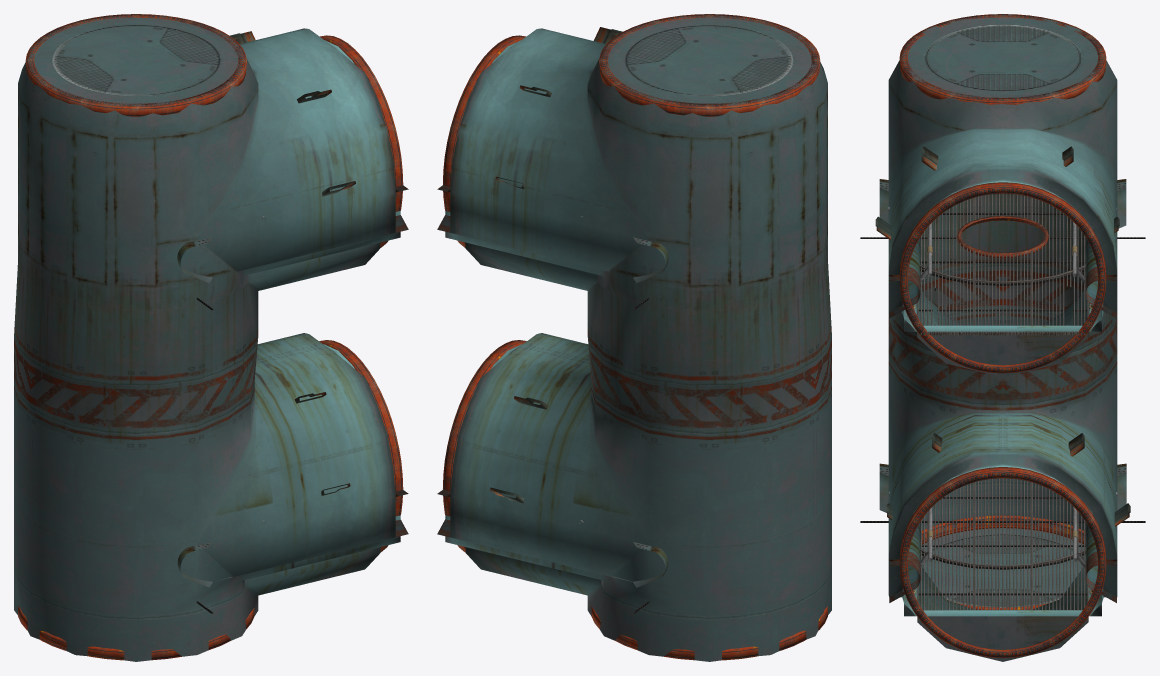
Rendered from tau_tunnel_ladder_short_uturn_infirmary.dae.
3 renders of one model, left to right at view 1: azimuth 30°, elevation 25°; view 2: azimuth 150°, elevation 25°; view 3: azimuth 270°, elevation 25°, orthographic. The views are drawn at different scales.
Visible parts, largest first — view 1: polySurface679, polySurface675, polySurface677; view 2: polySurface679, polySurface675, polySurface677; view 3: polySurface679, polySurface674, polySurface675, polySurface677, polySurface678.
Part boxes in pixels (<box>): polySurface679: <box>14,15,408,661</box>; polySurface675: <box>18,14,403,660</box>; polySurface677: <box>230,31,355,495</box>; polySurface679: <box>437,15,831,661</box>; polySurface675: <box>443,14,827,660</box>; polySurface677: <box>490,27,622,503</box>; polySurface679: <box>879,14,1126,661</box>; polySurface674: <box>860,193,1145,610</box>; polySurface675: <box>899,14,1106,658</box>; polySurface677: <box>875,146,1130,526</box>; polySurface678: <box>888,207,1117,593</box>.
Size of the model in its own units: 6 by 9.93 by 5.
